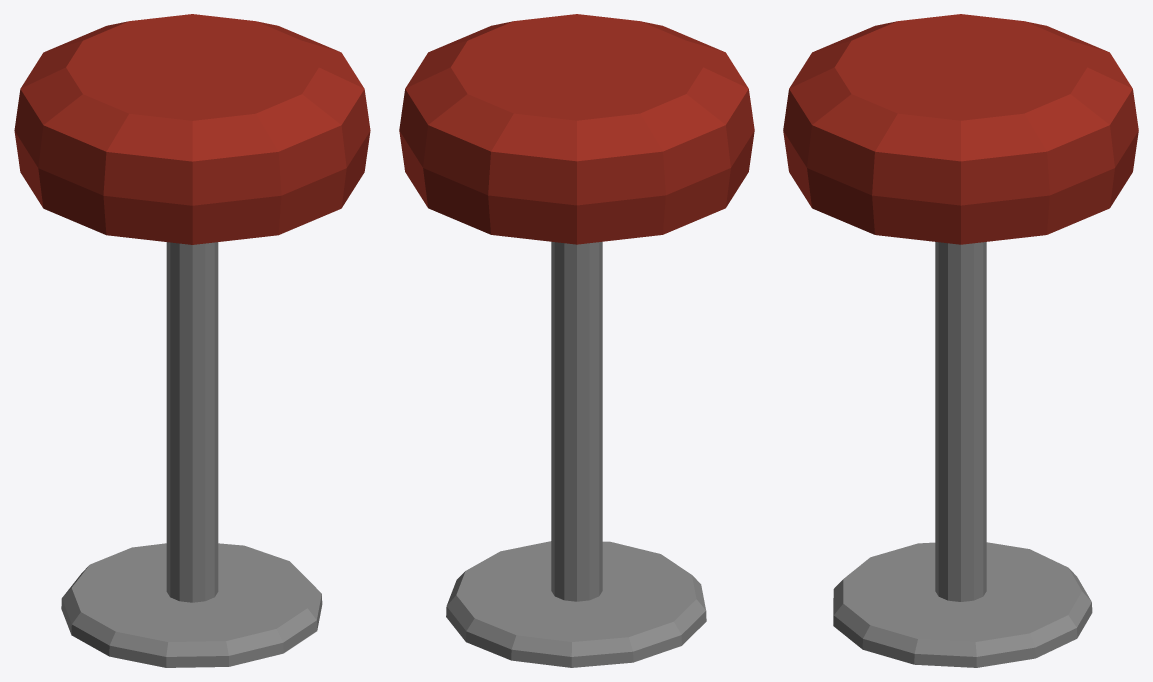
File: Chair C.glb
3 renders of one model, left to right at view 1: azimuth 30°, elevation 25°; view 2: azimuth 150°, elevation 25°; view 3: azimuth 270°, elevation 25°, orthographic.
Visible parts, largest first — view 1: Chair C; view 2: Chair C; view 3: Chair C.
Part boxes in pixels (bbox=[...]): Chair C: bbox=[14, 14, 370, 667]; Chair C: bbox=[399, 14, 754, 667]; Chair C: bbox=[783, 14, 1138, 667].
Bounding box in the file's own units: 184 × 311 × 184.
